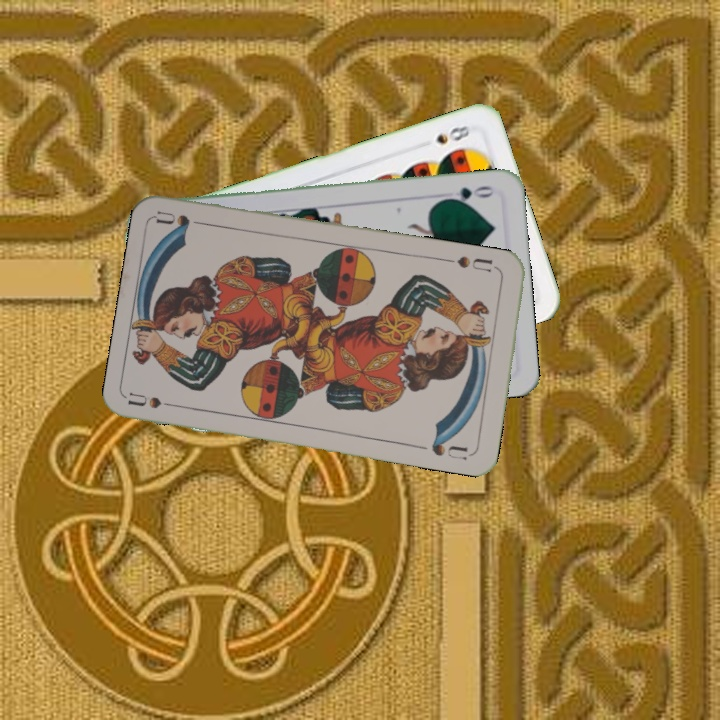GO: (440, 182, 498, 206)
S8: (432, 121, 472, 147)
SU: (126, 389, 186, 411), (453, 252, 502, 275)
